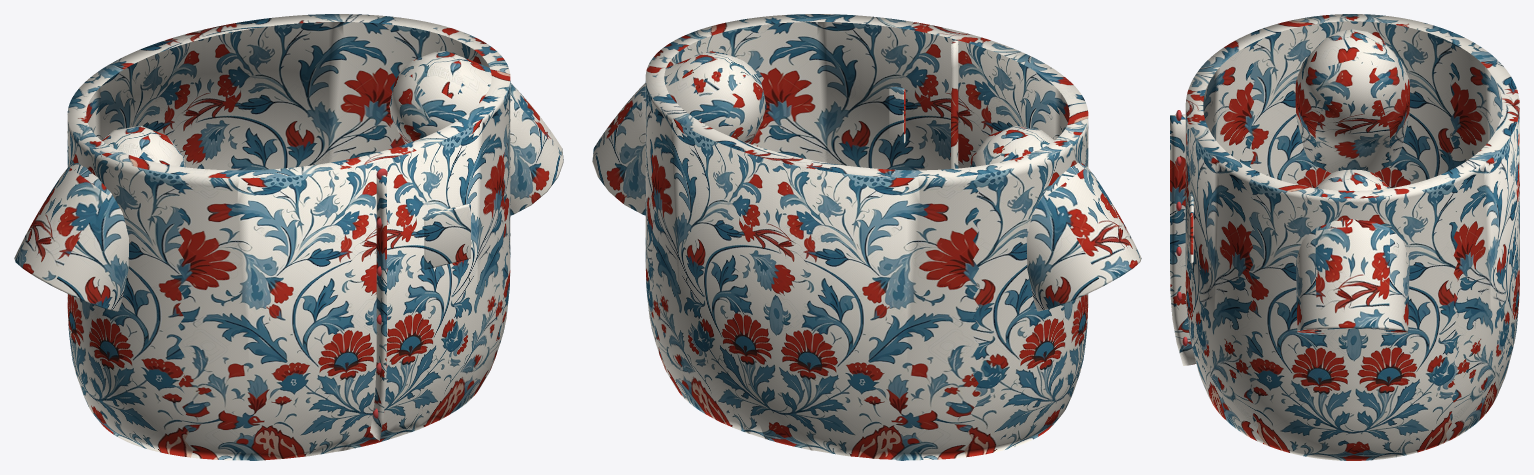
The model's file is beachshirt2.fbx.
3 views of the same model, side by side, from view 1: azimuth 30°, elevation 25°; view 2: azimuth 150°, elevation 25°; view 3: azimuth 270°, elevation 25° (orthographic). The views are drawn at different scales.
Parts seen in each view (by area): view 1: beachshirt2; view 2: beachshirt2; view 3: beachshirt2.
Part boxes in pixels (x1,y1,x2,y2): beachshirt2: (14,14,563,460); beachshirt2: (592,14,1141,460); beachshirt2: (1170,14,1519,460).
Bounding box in the file's own units: 1.11 × 0.589 × 0.6785.
Materials: 2 (1 with a texture image).
